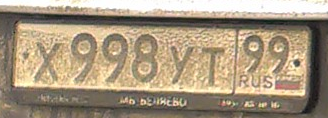character: (101, 30, 131, 85), (69, 32, 99, 85), (131, 32, 160, 86), (31, 38, 63, 84), (168, 45, 195, 90), (201, 46, 226, 90), (241, 35, 266, 76), (267, 35, 290, 76)
